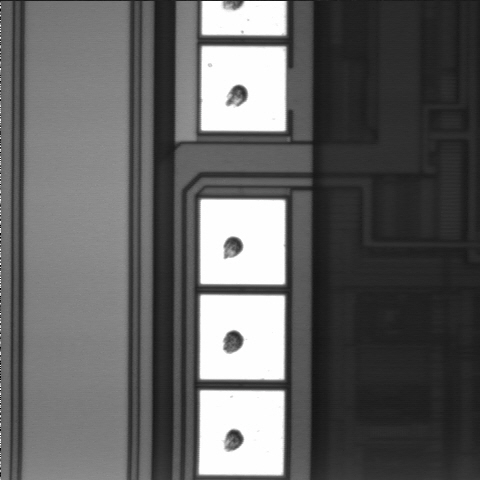pad: (201, 46, 286, 131), (200, 199, 285, 284), (200, 295, 285, 380), (199, 390, 284, 475)
